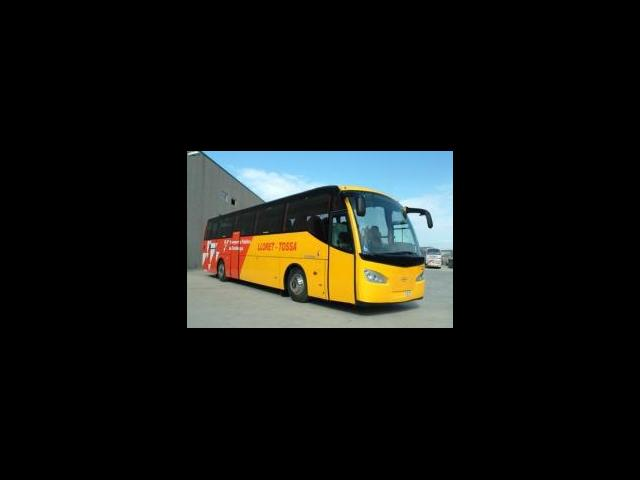bus: (200, 183, 436, 310)
